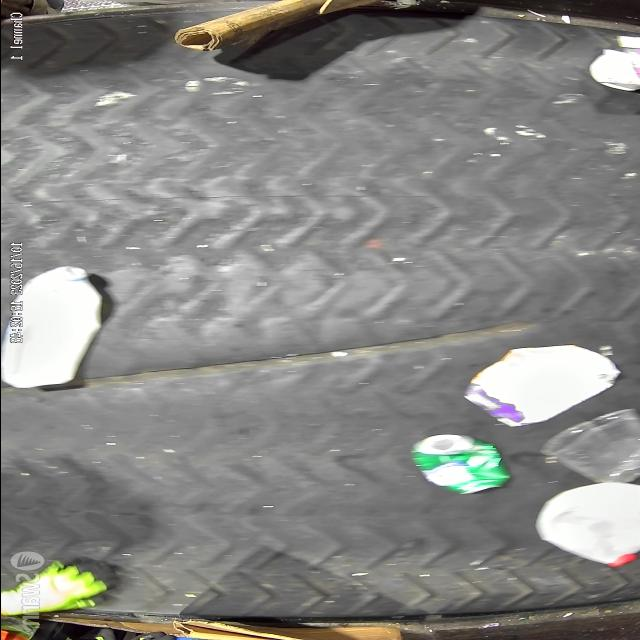can: (401, 436, 509, 496)
milk_jug: (0, 266, 102, 388), (530, 483, 640, 558)
